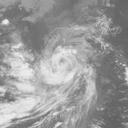cyclone: (39, 43, 95, 103)
